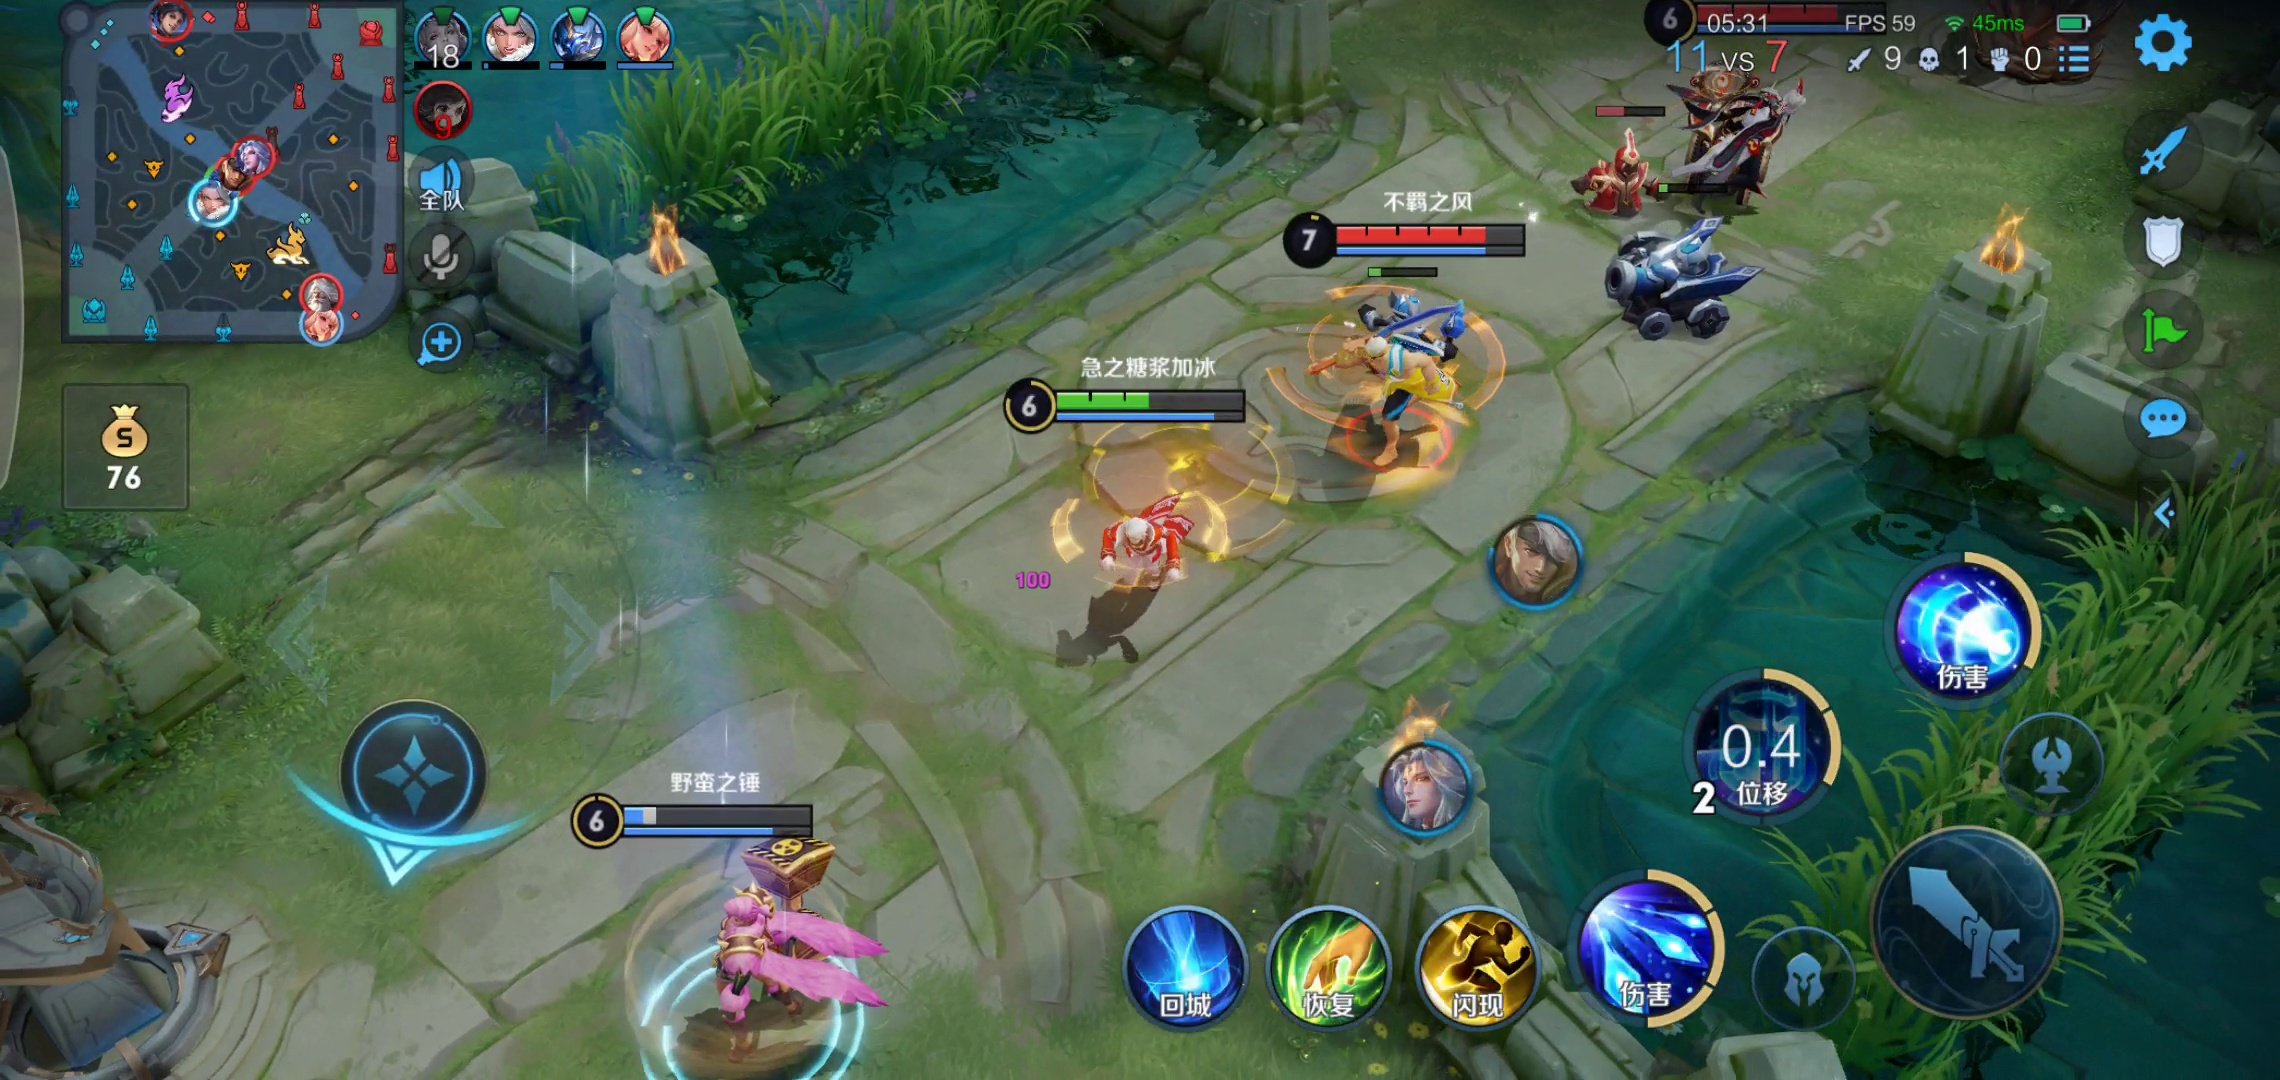grass: (1802, 456, 2271, 1060), (510, 3, 1104, 225)
hero: (611, 853, 910, 1052), (1057, 468, 1248, 629), (1320, 320, 1474, 461), (1681, 51, 1807, 219)
soldier: (1588, 214, 1754, 368), (1576, 118, 1665, 221)
